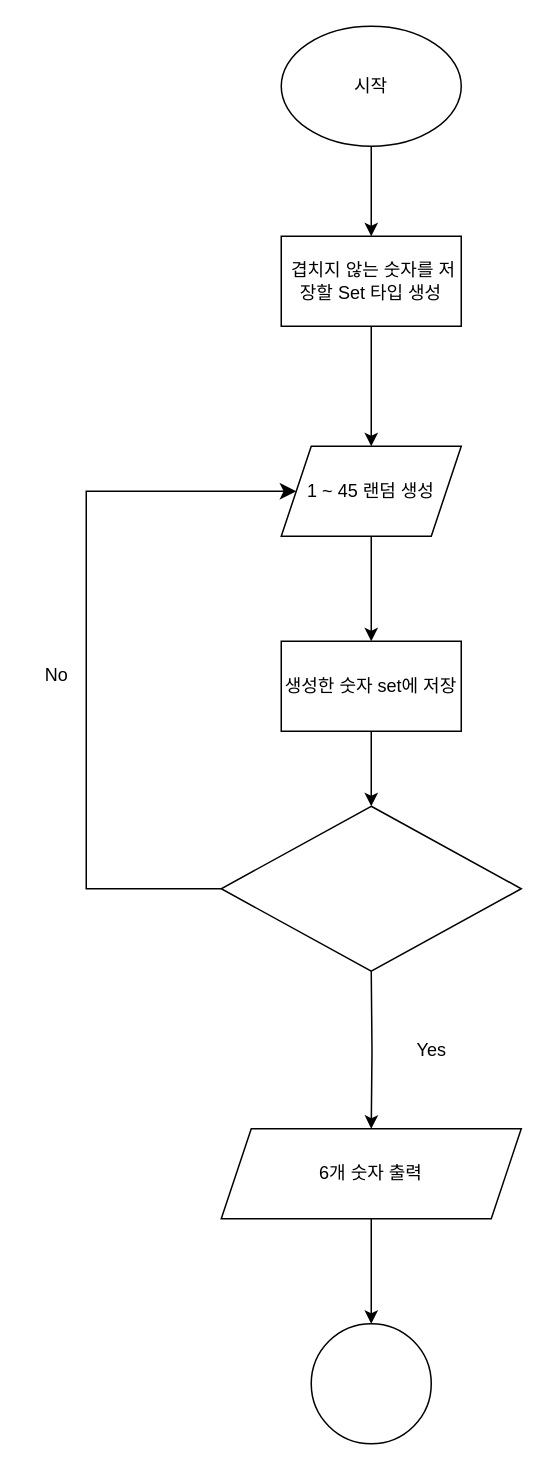
Image size: 548x1470. Some labels were removed from this diagram. The centre of each missing label's shape, as x and y in pixels:
set에 저장한 숫자가 6개인가?: the point at 370,888
종료: the point at 370,1383
